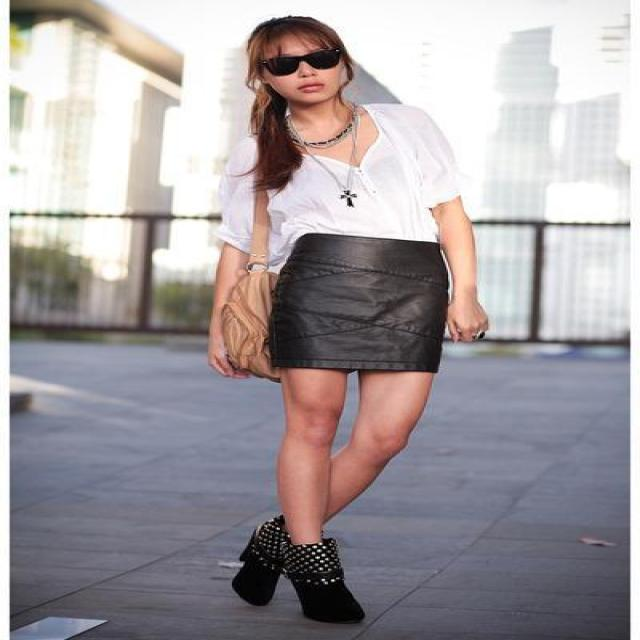bag: (200, 218, 302, 390)
shirt: (206, 102, 488, 268)
shoe: (232, 515, 363, 623)
skirt: (263, 232, 452, 390)
sunglass: (256, 41, 352, 80)
